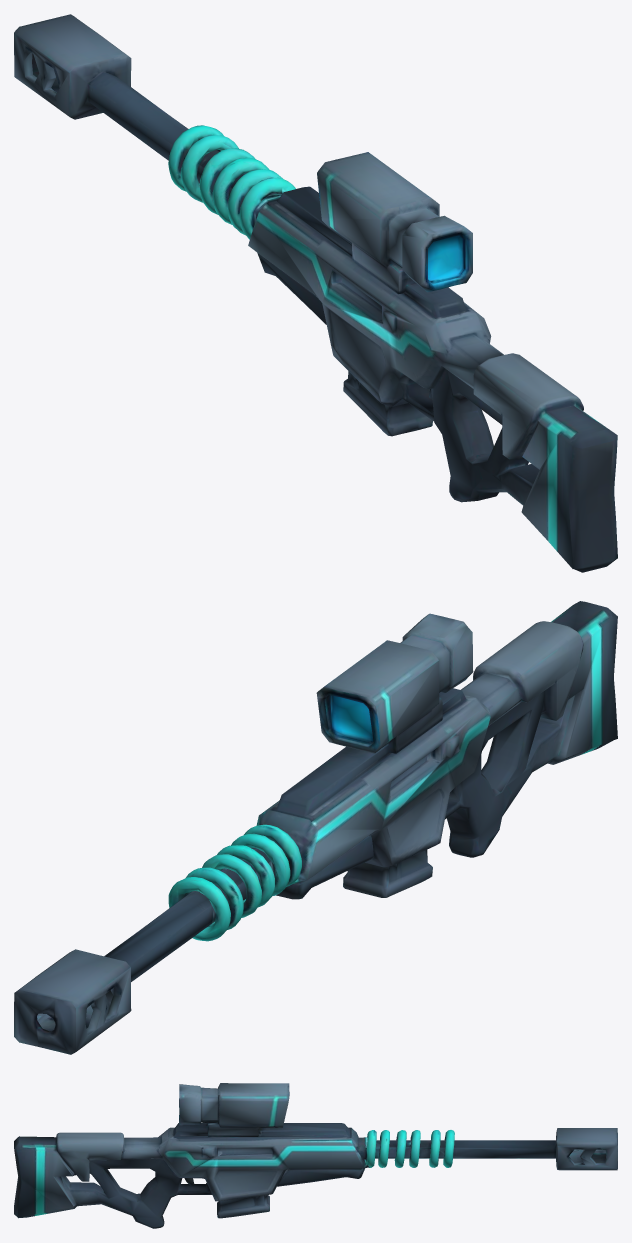
The model's file is r_tempest.glb.
3 renders of one model, top to bottom at view 1: azimuth 30°, elevation 25°; view 2: azimuth 150°, elevation 25°; view 3: azimuth 270°, elevation 25°, orthographic. The views are drawn at different scales.
Parts seen in each view (by area): view 1: node_0; view 2: node_0; view 3: node_0.
Boxes of the visible parts, <box> form: node_0: <box>14,14,617,572</box>; node_0: <box>14,601,617,1054</box>; node_0: <box>14,1083,617,1228</box>.
Bounding box in the file's own units: 0.0987 × 0.3498 × 1.39.
Materials: 1 (1 with a texture image).
